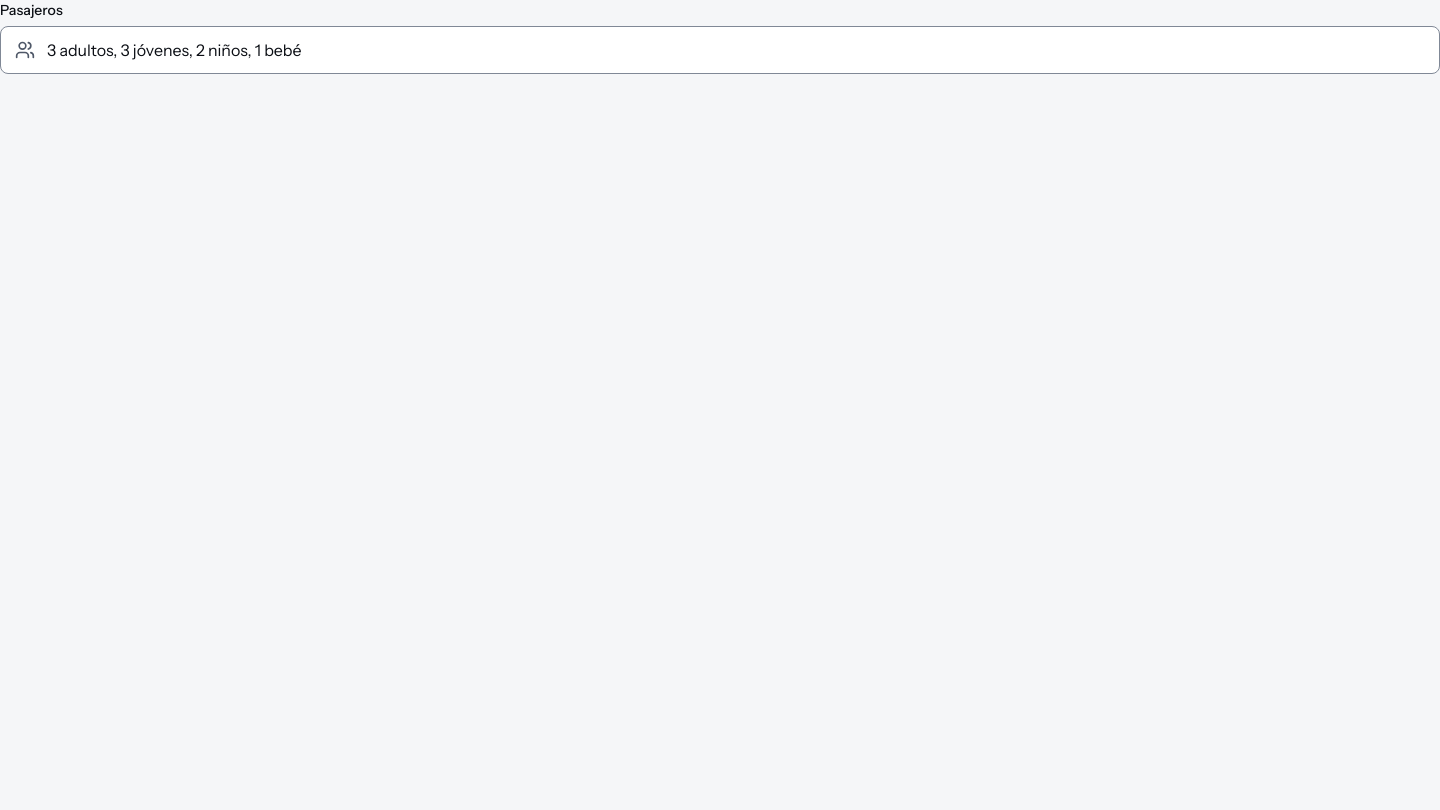
PassengerSelector › stops at 9 passengers counting youths
This screenshot has width=1440, height=810.
Click the button "3 adultos, 3 jóvenes, 2 niños, 1 bebé": (174, 50) [0,26,1439,74]
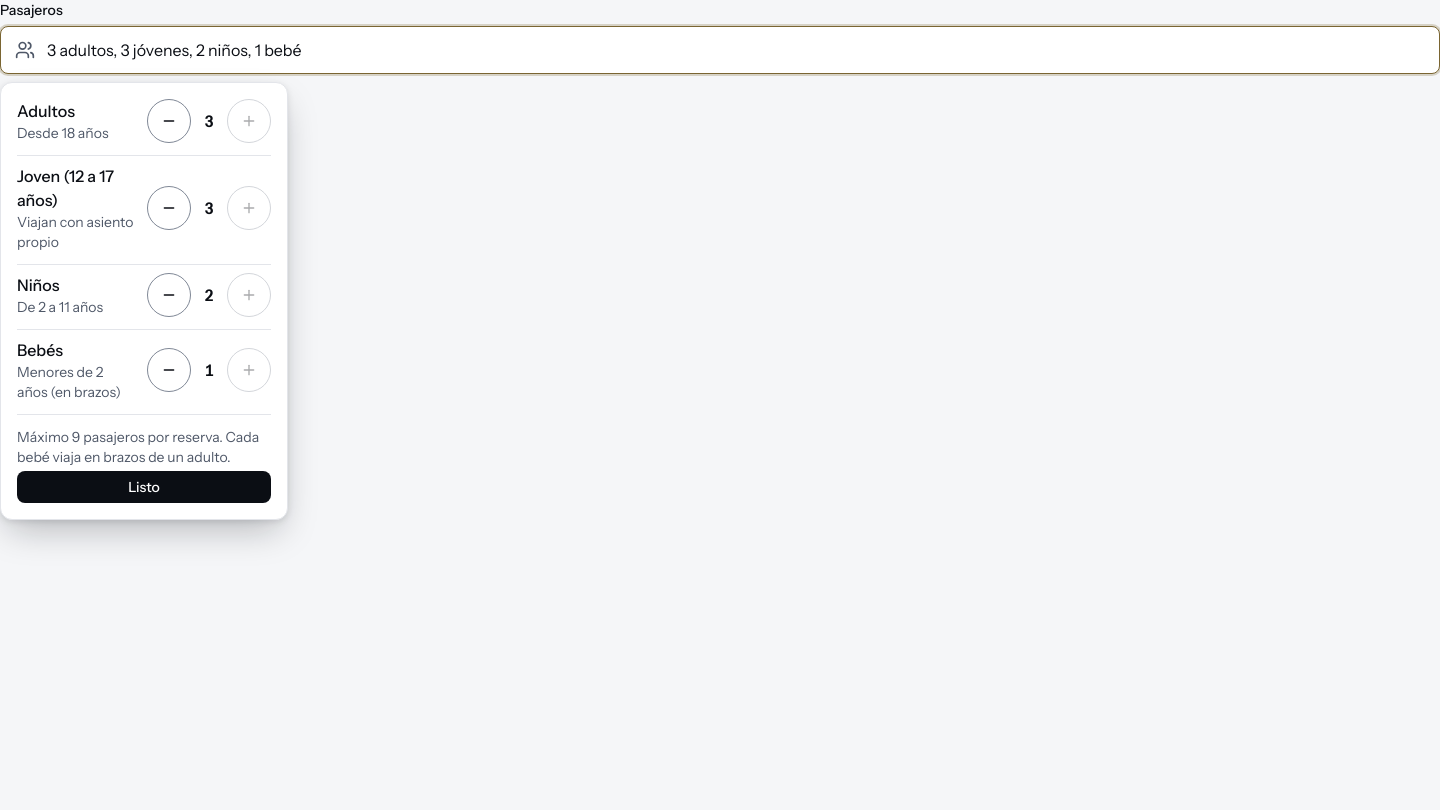
expect the text "Máximo 9 pasajeros" is shown: met, box [17,414,271,467]
